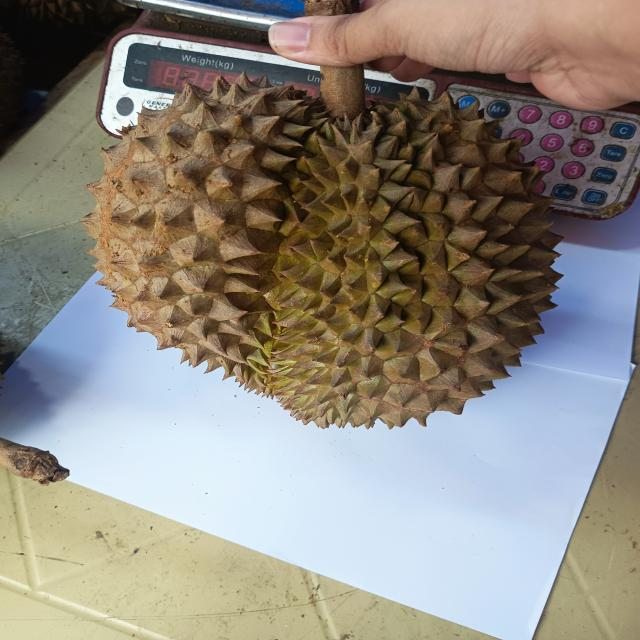mature: (84, 72, 561, 428)
